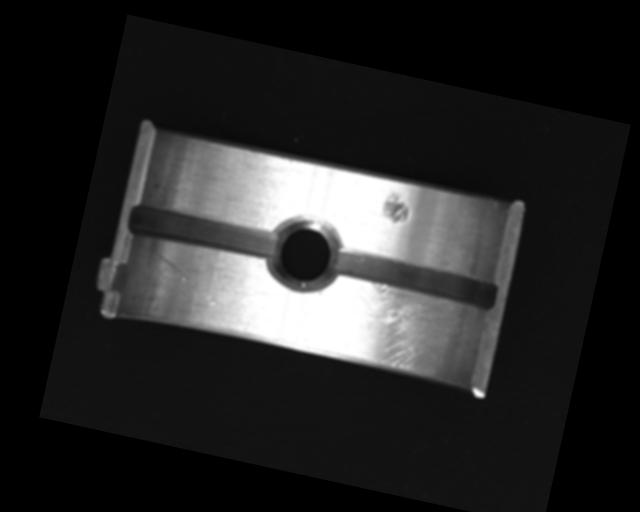bruise: (380, 190, 413, 228)
gap: (326, 244, 499, 313), (126, 201, 280, 264)
hole: (263, 210, 345, 296)
nick: (144, 248, 225, 308)
scratch: (314, 273, 482, 386)
